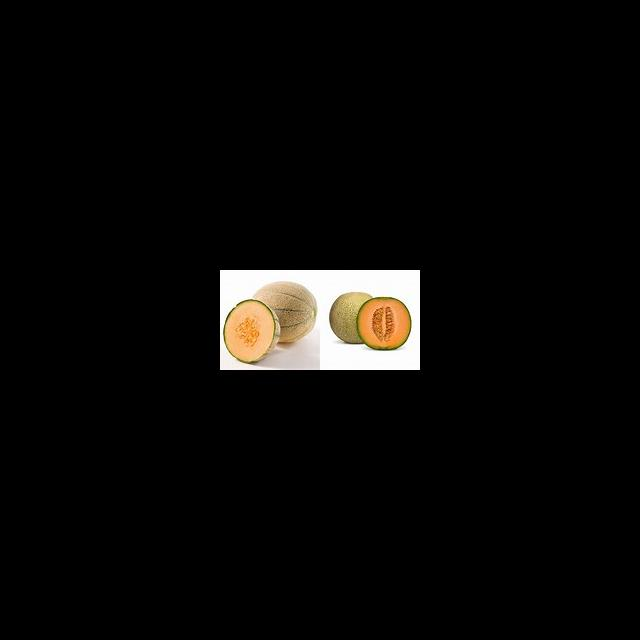Hami Melon: (253, 281, 318, 343), (223, 299, 281, 364), (357, 296, 412, 350)
